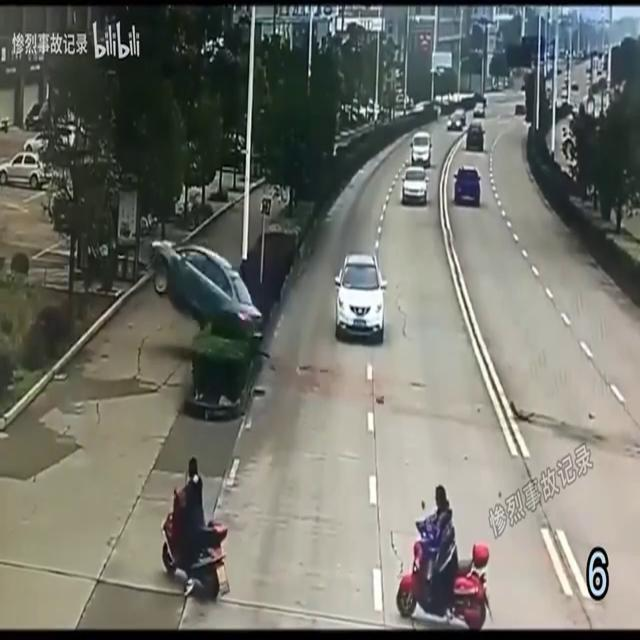normal: (320, 217, 418, 367)
single accident: (125, 177, 282, 353), (398, 82, 497, 235)
